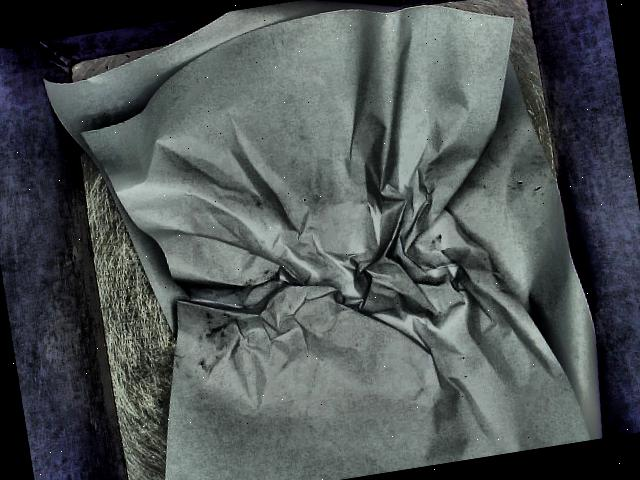Paper: (40, 0, 619, 480)
